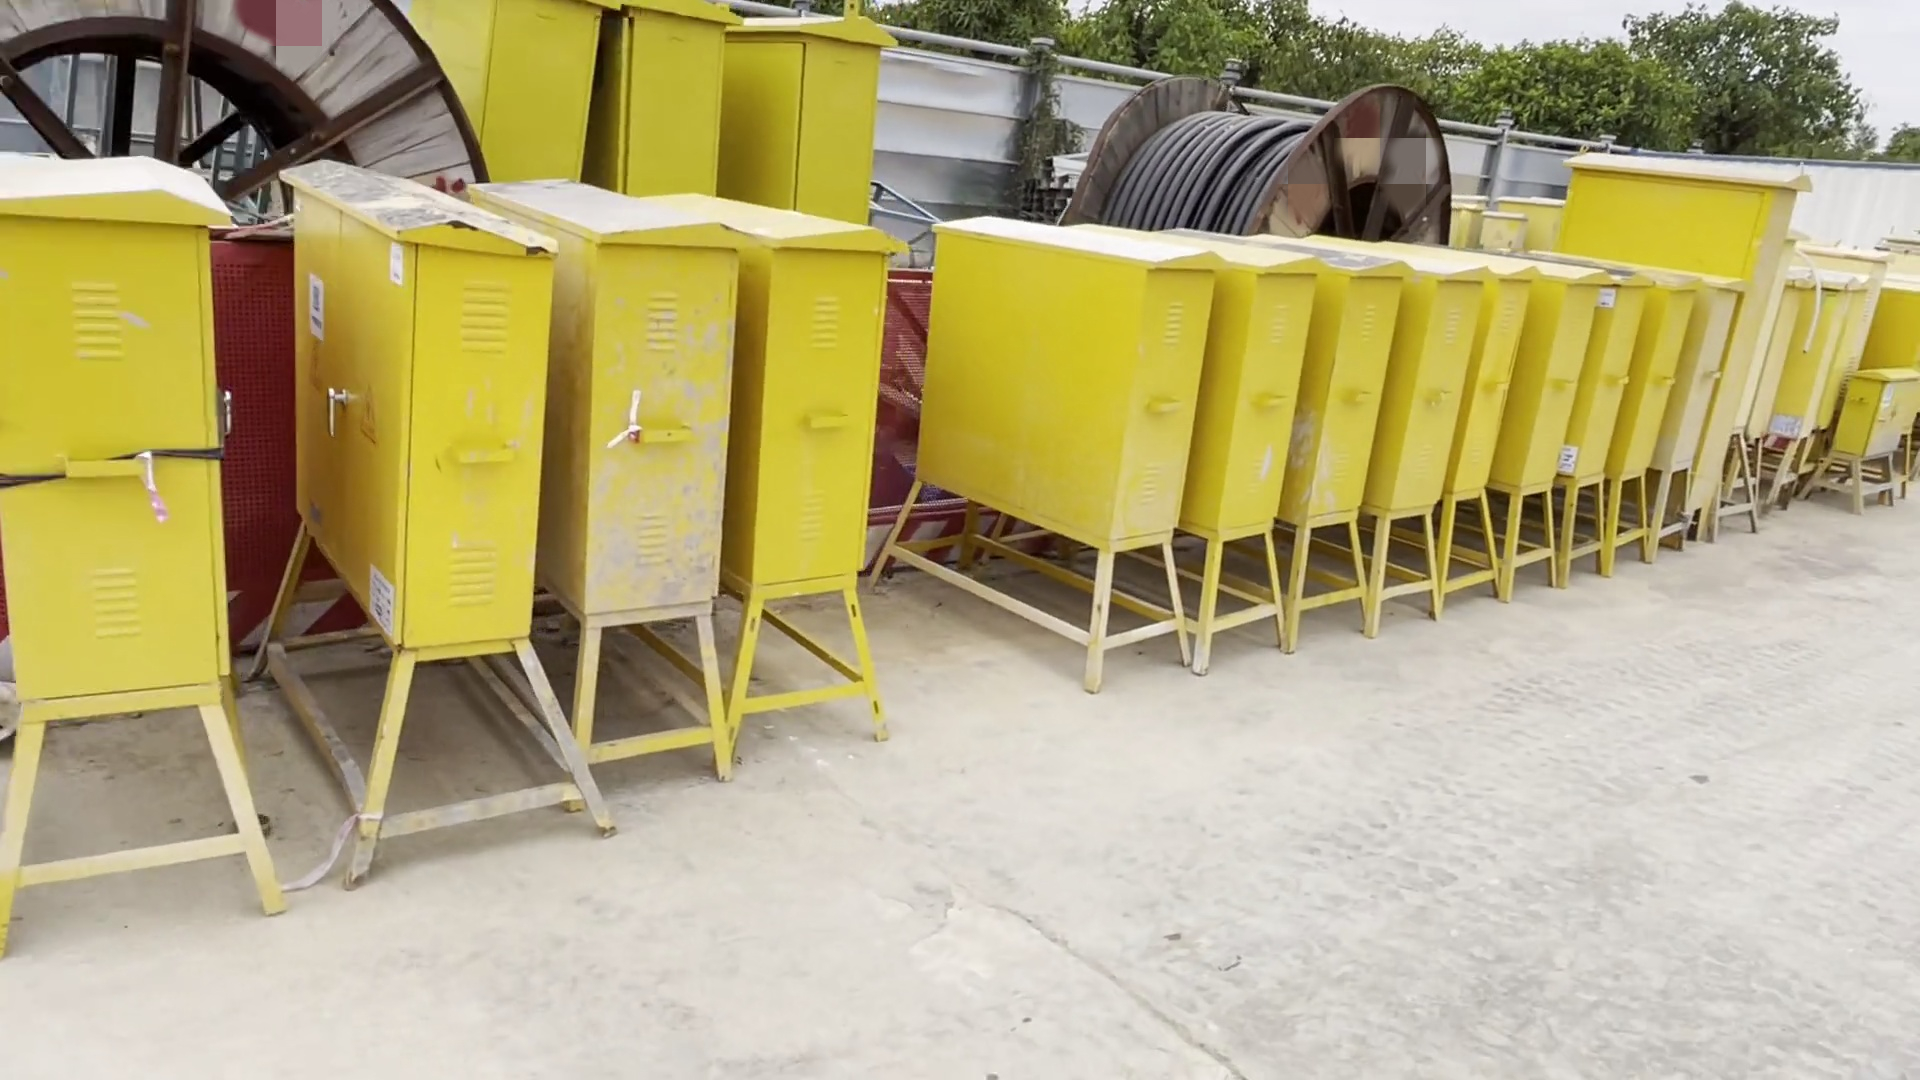ebox: (262, 135, 600, 848), (1, 138, 255, 914), (493, 161, 723, 790), (918, 200, 1193, 690), (659, 183, 895, 745), (1559, 135, 1812, 574), (1112, 216, 1288, 659), (1283, 249, 1386, 665), (1427, 265, 1542, 616), (381, 1, 604, 167), (1364, 235, 1455, 633), (728, 1, 880, 233), (1491, 265, 1593, 607), (1556, 265, 1655, 593), (1604, 278, 1692, 570), (597, 1, 729, 187), (1818, 367, 1920, 508)
